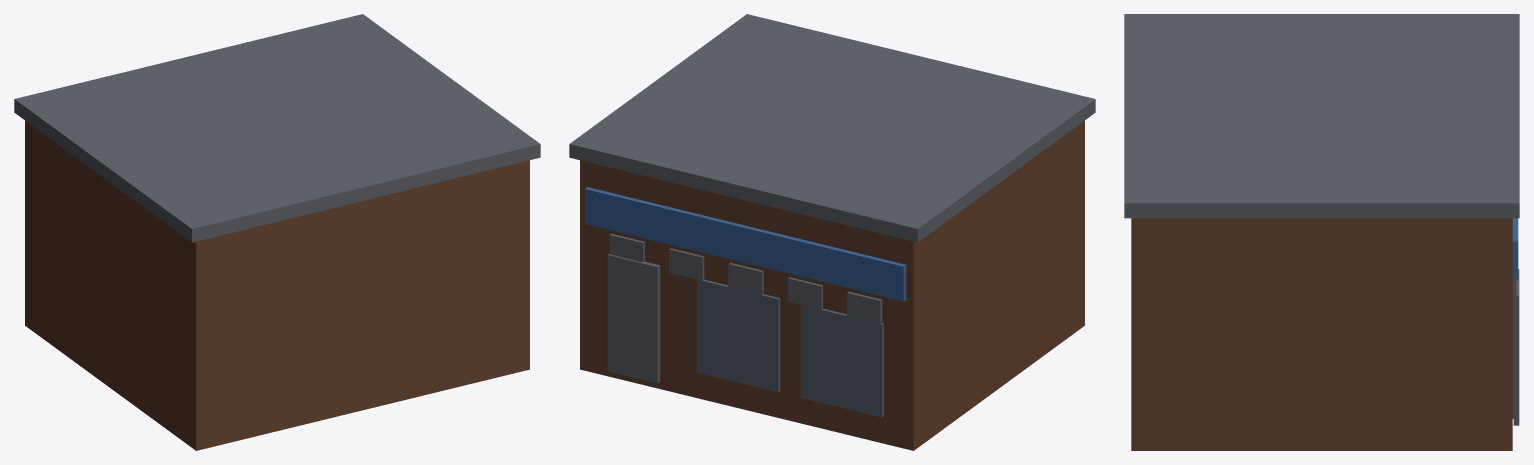
The model's file is laundromat.glb.
3 renders of one model, left to right at view 1: azimuth 30°, elevation 25°; view 2: azimuth 150°, elevation 25°; view 3: azimuth 270°, elevation 25°, orthographic. The views are drawn at different scales.
Parts seen in each view (by area): view 1: Cube, Cube.001; view 2: Cube.001, Cube, Cube.002, Cube.004, Cube.003, Cube.006, Cube.008, Cube.010, Cube.007, Cube.009, Cube.011; view 3: Cube, Cube.001, Cube.006, Cube.002.
Boxes of the visible parts, x1,y1,x2,y2 form: Cube: (25,120,529,450); Cube.001: (14,14,540,242); Cube.001: (569,14,1095,242); Cube: (580,120,1084,450); Cube.002: (585,187,906,301); Cube.004: (697,279,780,392); Cube.003: (800,305,883,417); Cube.006: (607,254,660,383); Cube.008: (787,277,822,309); Cube.010: (669,248,704,280); Cube.007: (847,291,882,324); Cube.009: (728,262,763,295); Cube.011: (609,233,644,262); Cube: (1131,218,1512,450); Cube.001: (1124,14,1519,218); Cube.006: (1513,269,1519,425); Cube.002: (1512,218,1518,280).
Size of what is drawn, in the model's own units: 9.4 by 5.83 by 8.3.
